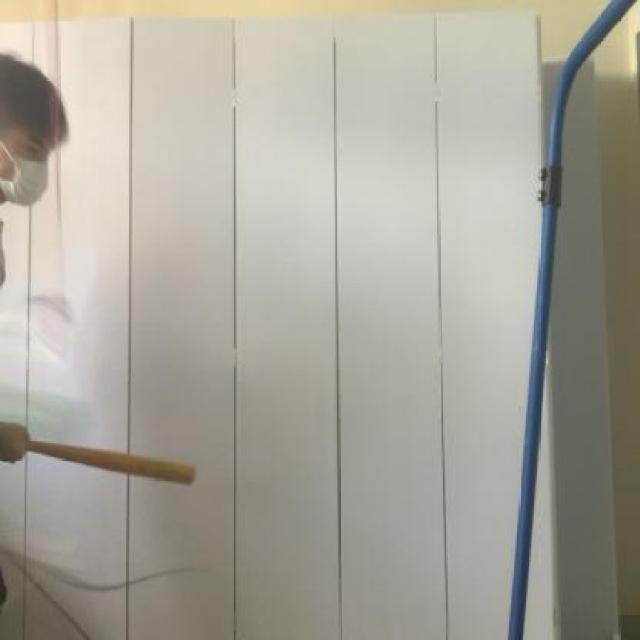baseball: (0, 387, 103, 467)
